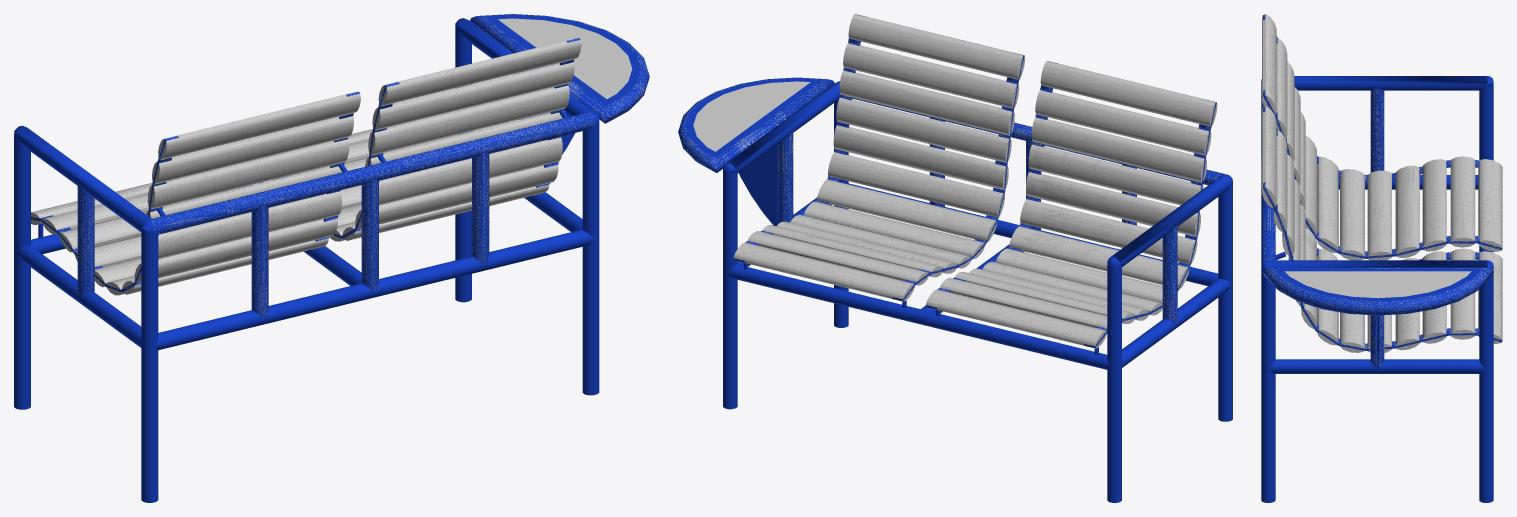
3 views of the same model, side by side, from view 1: azimuth 30°, elevation 25°; view 2: azimuth 150°, elevation 25°; view 3: azimuth 270°, elevation 25° (orthographic). The views are drawn at different scales.
Visible parts, largest first — view 1: mesh8_mesh8-geometry, mesh1_mesh1-geometry, mesh4_mesh4-geometry, mesh74_mesh74-geometry, mesh75_mesh75-geometry, mesh5_mesh5-geometry, mesh73_mesh73-geometry, mesh9_mesh9-geometry, mesh3_mesh3-geometry; view 2: mesh8_mesh8-geometry, mesh1_mesh1-geometry, mesh4_mesh4-geometry, mesh74_mesh74-geometry, mesh5_mesh5-geometry, mesh9_mesh9-geometry, mesh73_mesh73-geometry, mesh3_mesh3-geometry, mesh76_mesh76-geometry, mesh75_mesh75-geometry; view 3: mesh8_mesh8-geometry, mesh74_mesh74-geometry, mesh1_mesh1-geometry, mesh4_mesh4-geometry, mesh73_mesh73-geometry, mesh9_mesh9-geometry, mesh5_mesh5-geometry, mesh3_mesh3-geometry, mesh75_mesh75-geometry.
Part boxes in pixels (x1,y1,x2,y2): mesh8_mesh8-geometry: (31, 37, 581, 295); mesh1_mesh1-geometry: (14, 28, 599, 502); mesh4_mesh4-geometry: (16, 192, 593, 350); mesh74_mesh74-geometry: (470, 14, 649, 123); mesh75_mesh75-geometry: (150, 112, 594, 234); mesh5_mesh5-geometry: (77, 115, 535, 317); mesh73_mesh73-geometry: (14, 125, 153, 231); mesh9_mesh9-geometry: (31, 38, 580, 292); mesh3_mesh3-geometry: (455, 18, 599, 123); mesh8_mesh8-geometry: (733, 14, 1217, 348); mesh1_mesh1-geometry: (723, 99, 1232, 502); mesh4_mesh4-geometry: (728, 183, 1230, 369); mesh74_mesh74-geometry: (678, 77, 834, 172); mesh5_mesh5-geometry: (778, 116, 1177, 323); mesh9_mesh9-geometry: (733, 14, 1216, 348); mesh73_mesh73-geometry: (1107, 174, 1232, 266); mesh3_mesh3-geometry: (723, 81, 840, 172); mesh76_mesh76-geometry: (739, 144, 778, 225); mesh75_mesh75-geometry: (852, 97, 1226, 185); mesh8_mesh8-geometry: (1262, 14, 1502, 352); mesh74_mesh74-geometry: (1262, 267, 1493, 315); mesh1_mesh1-geometry: (1261, 84, 1493, 502); mesh4_mesh4-geometry: (1270, 175, 1493, 373); mesh73_mesh73-geometry: (1261, 76, 1493, 90); mesh9_mesh9-geometry: (1263, 14, 1502, 350); mesh5_mesh5-geometry: (1370, 88, 1384, 367); mesh3_mesh3-geometry: (1261, 260, 1493, 269); mesh75_mesh75-geometry: (1261, 80, 1275, 264).
Bounding box in the file's own units: 0.7957 × 0.4931 × 0.3516.
